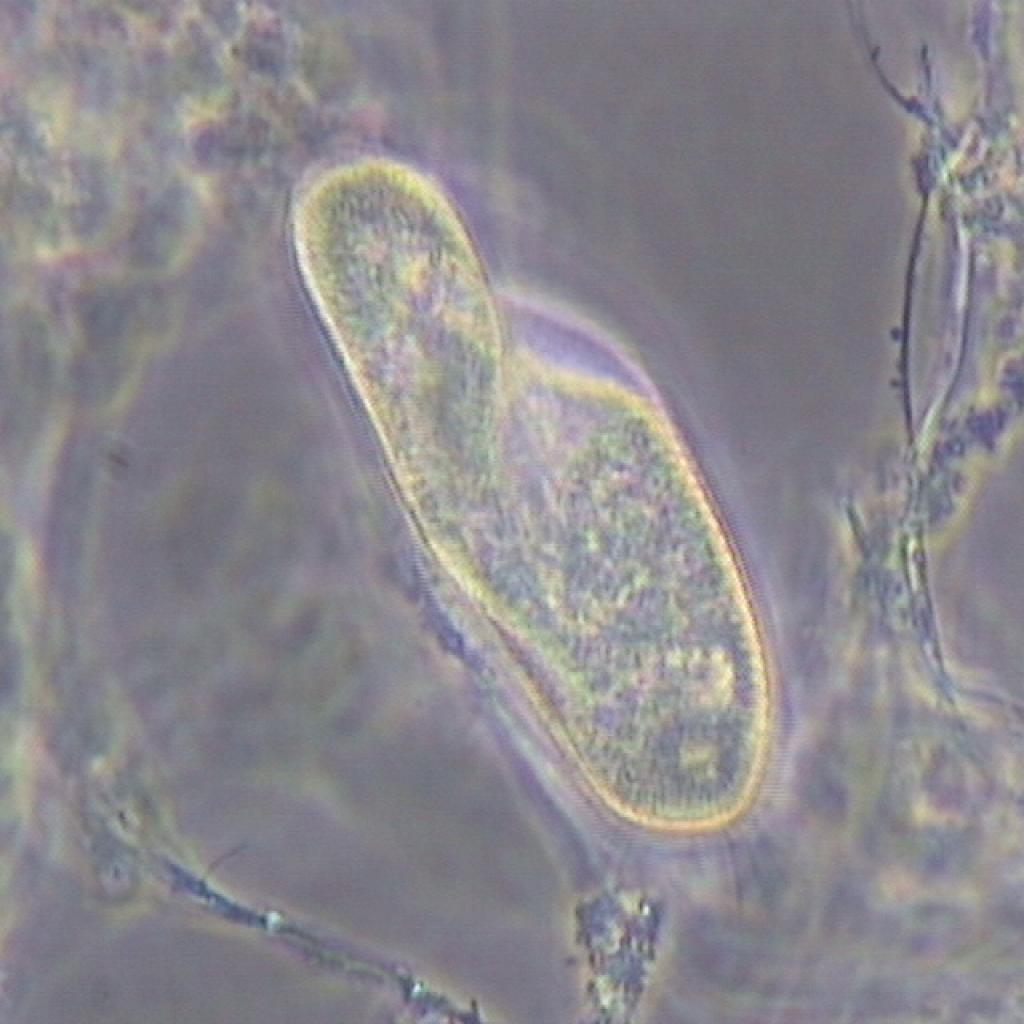Paramecium: (267, 135, 800, 876)
